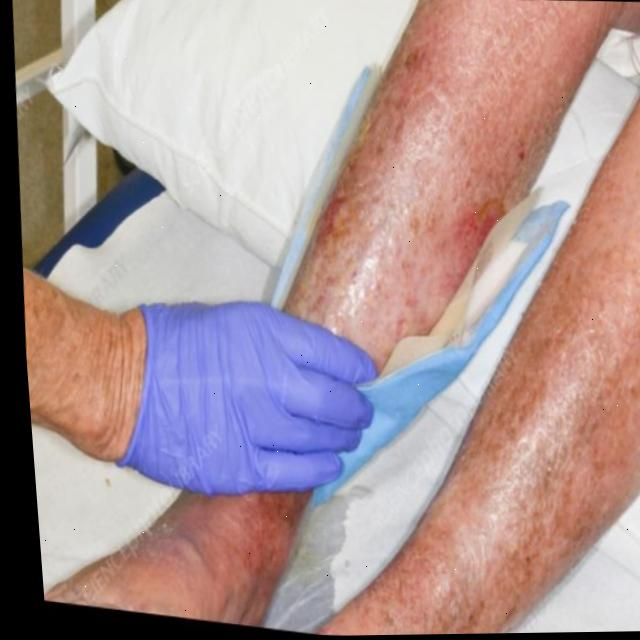Eczema: (397, 221, 640, 617), (325, 71, 512, 203)
